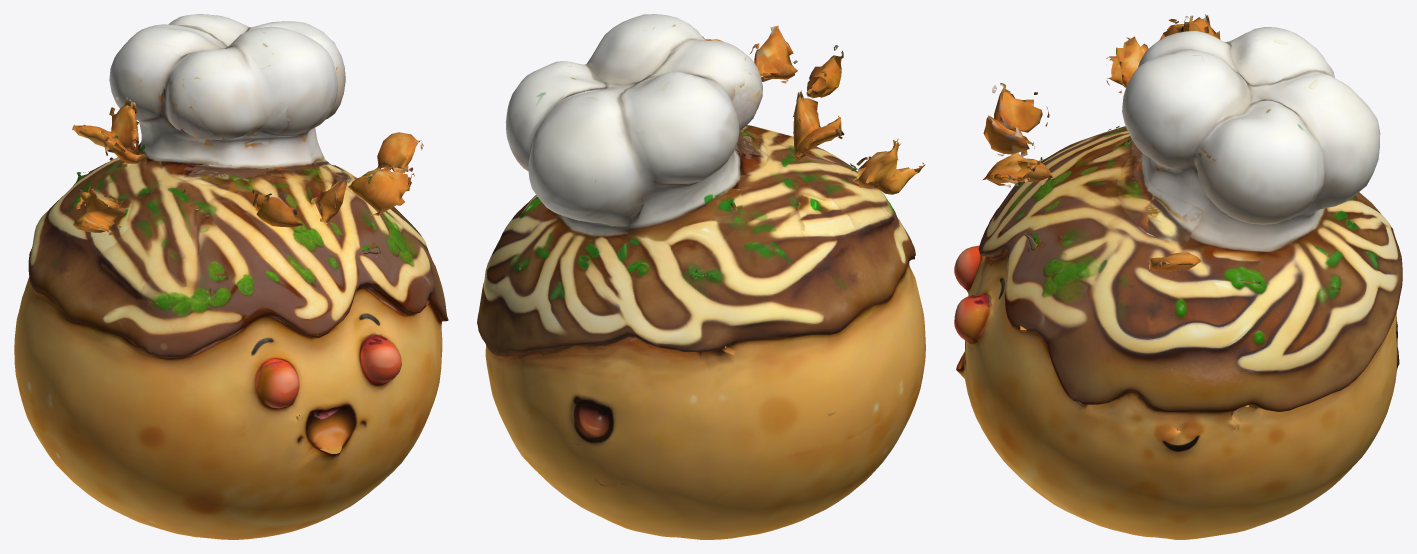
The model's file is takoyaki.glb.
3 views of the same model, side by side, from view 1: azimuth 30°, elevation 25°; view 2: azimuth 150°, elevation 25°; view 3: azimuth 270°, elevation 25° (orthographic). The views are drawn at different scales.
Bounding box in the file's own units: 1.66 × 1.99 × 1.68.
1 material, 1 textured.
